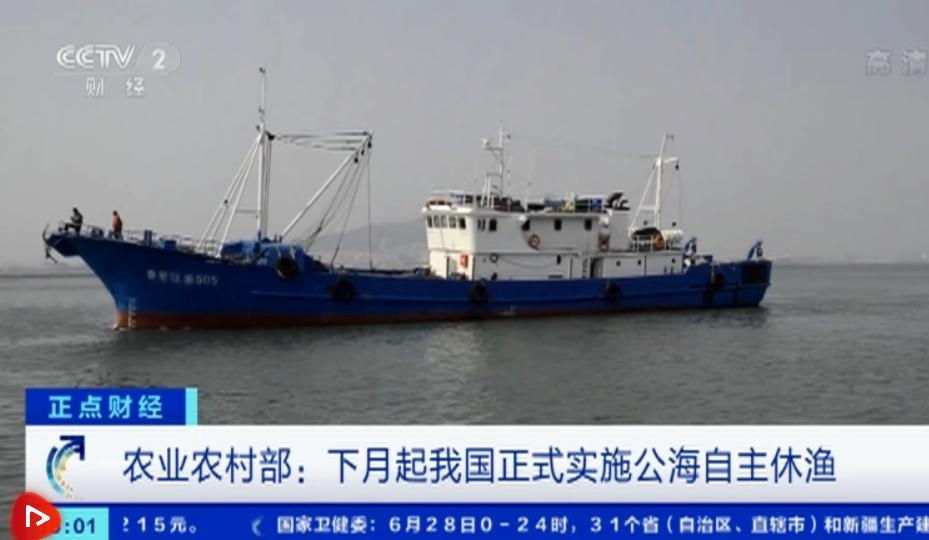otherboat: (39, 118, 774, 340)
